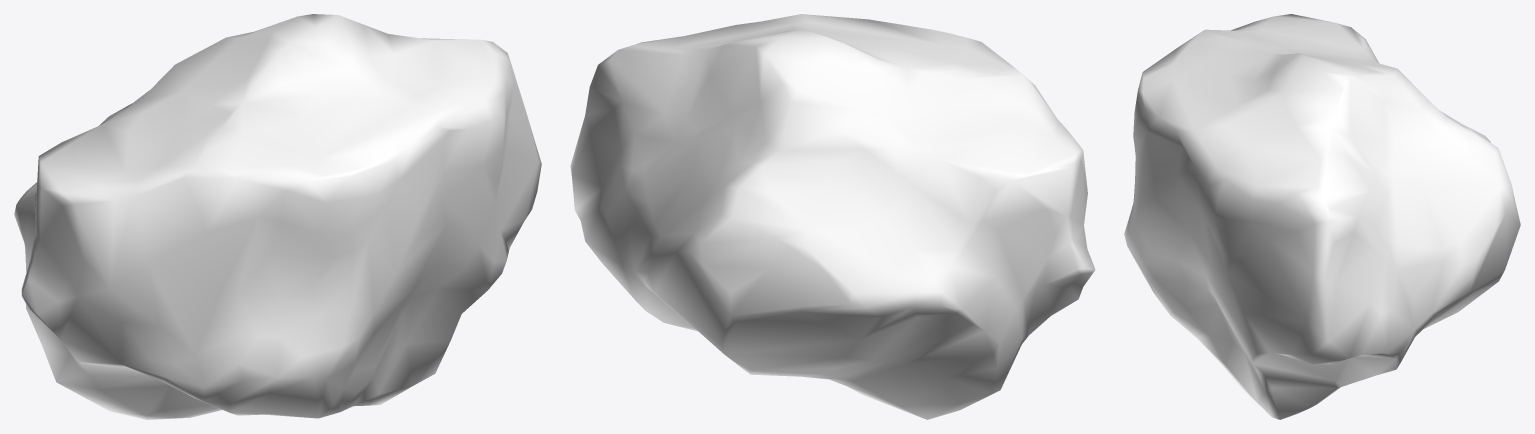
File: stone_small_3.glb
The picture shows the model from 3 angles, left to right: view 1: azimuth 30°, elevation 25°; view 2: azimuth 150°, elevation 25°; view 3: azimuth 270°, elevation 25°; orthographic projection. The views are drawn at different scales.
Parts seen in each view (by area): view 1: Small_3; view 2: Small_3; view 3: Small_3.
Boxes of the visible parts, x1=… form: Small_3: x1=14, y1=14, x2=541, y2=419; Small_3: x1=570, y1=14, x2=1095, y2=419; Small_3: x1=1124, y1=14, x2=1520, y2=419.
Bounding box in the file's own units: 1.98 × 1.27 × 1.44.
1 material, 1 textured.
